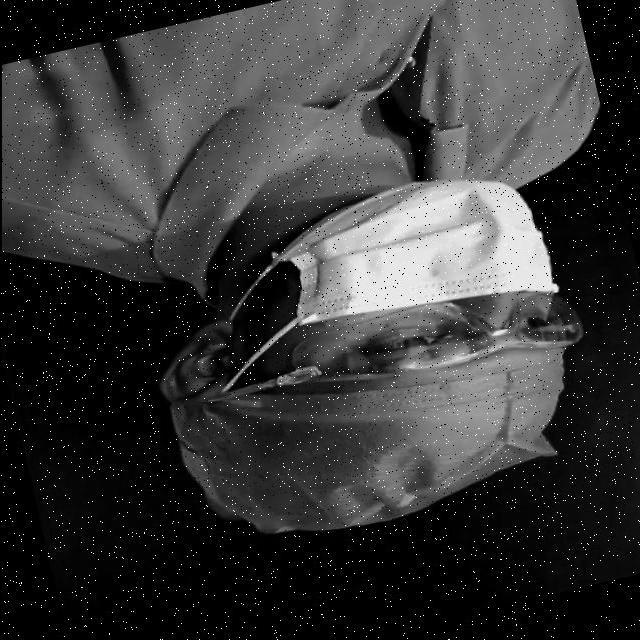gloves: (117, 365, 591, 547)
mask: (274, 182, 572, 334)
